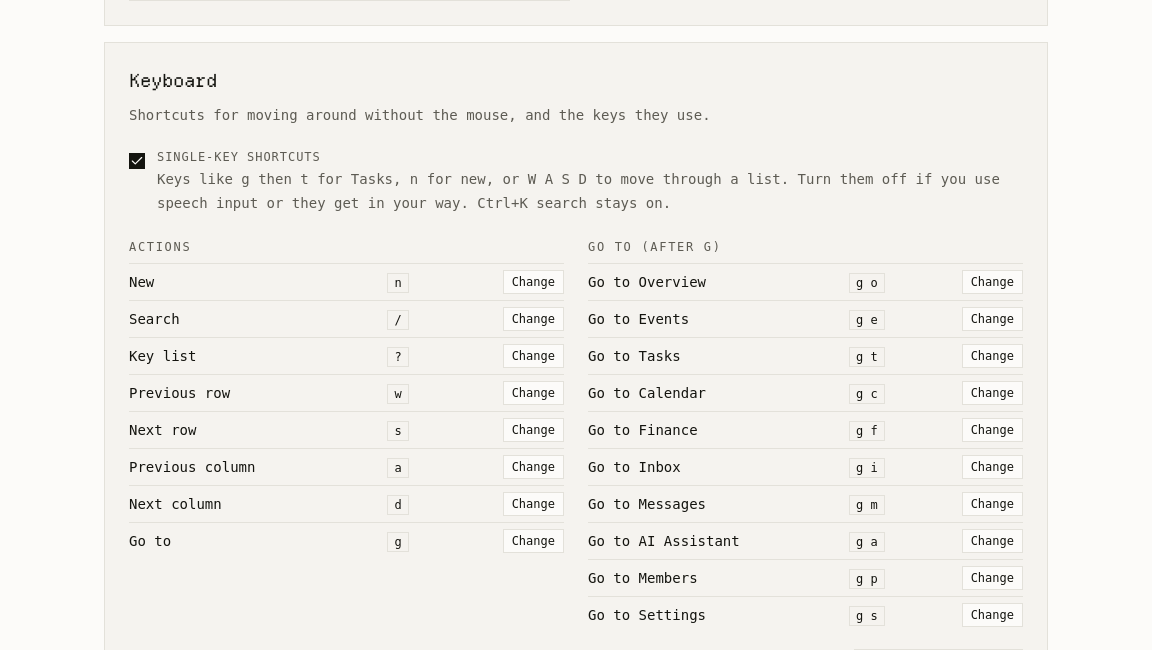
Test: rebinds a key from Settings, and says when that key is taken
This screenshot has width=1152, height=650.
(page scrolled)
Click the button with aria-label "Change key for New" at (533, 282), box [503, 270, 564, 294]
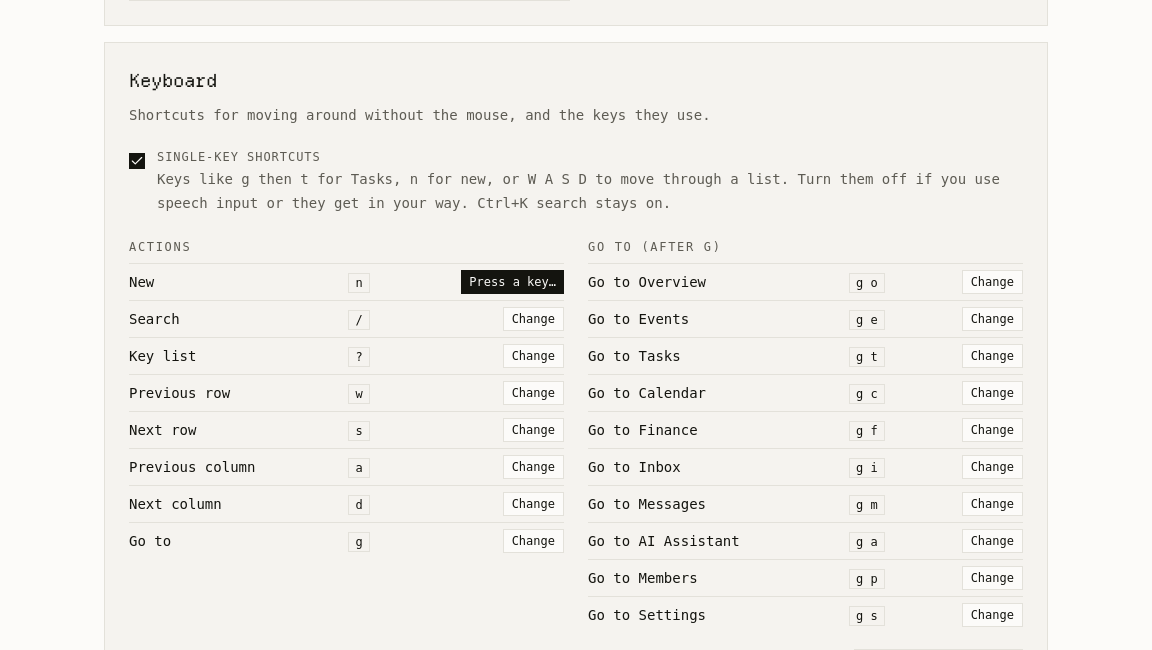
Now the button named "Change key for New" shows "Press a key"
Press s in the button named "Change key for New", box [461, 270, 564, 294]
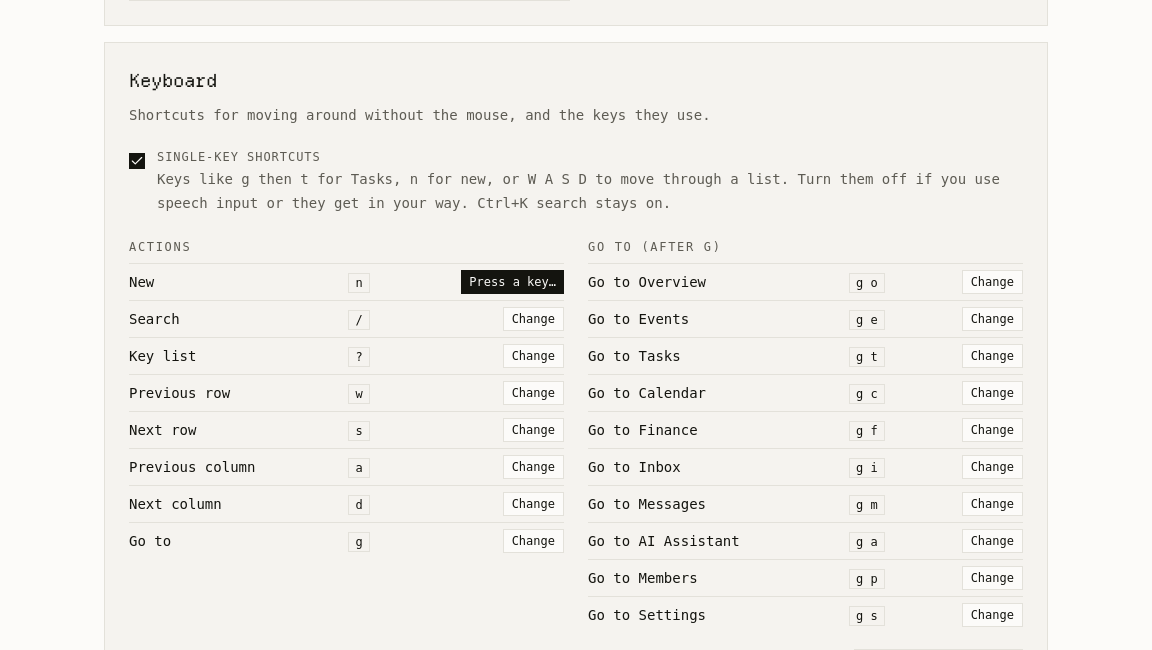
Press b in the button named "Change key for New", box [461, 270, 564, 294]
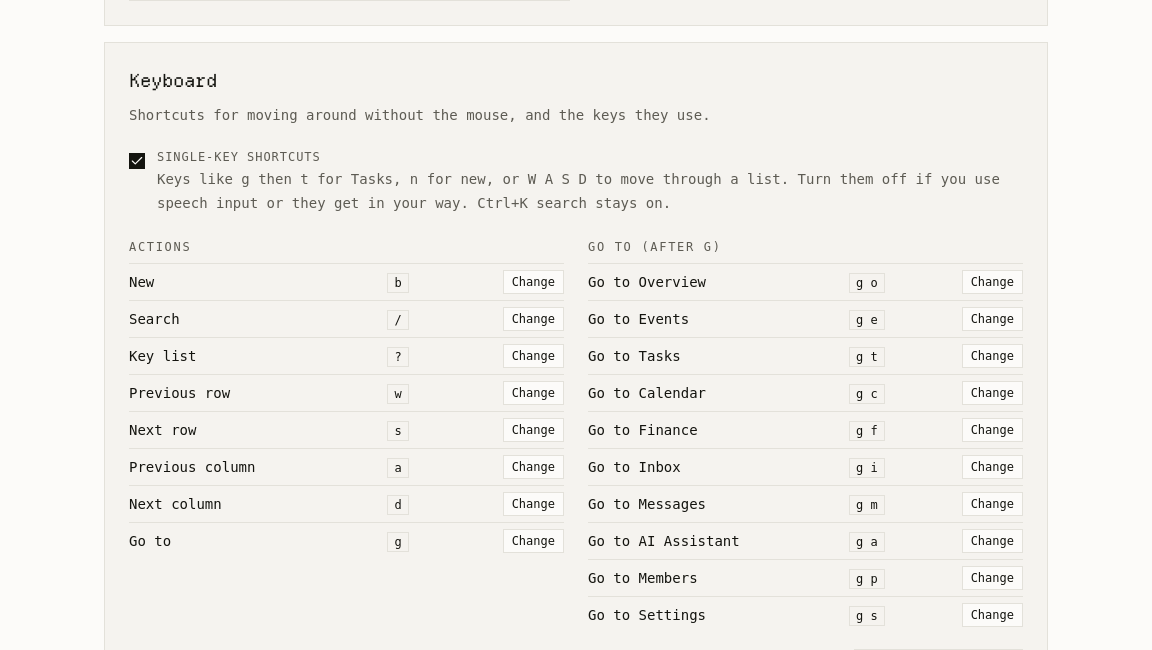
Now the button with aria-label "Change key for New" reads "Change", box [503, 270, 564, 294]
